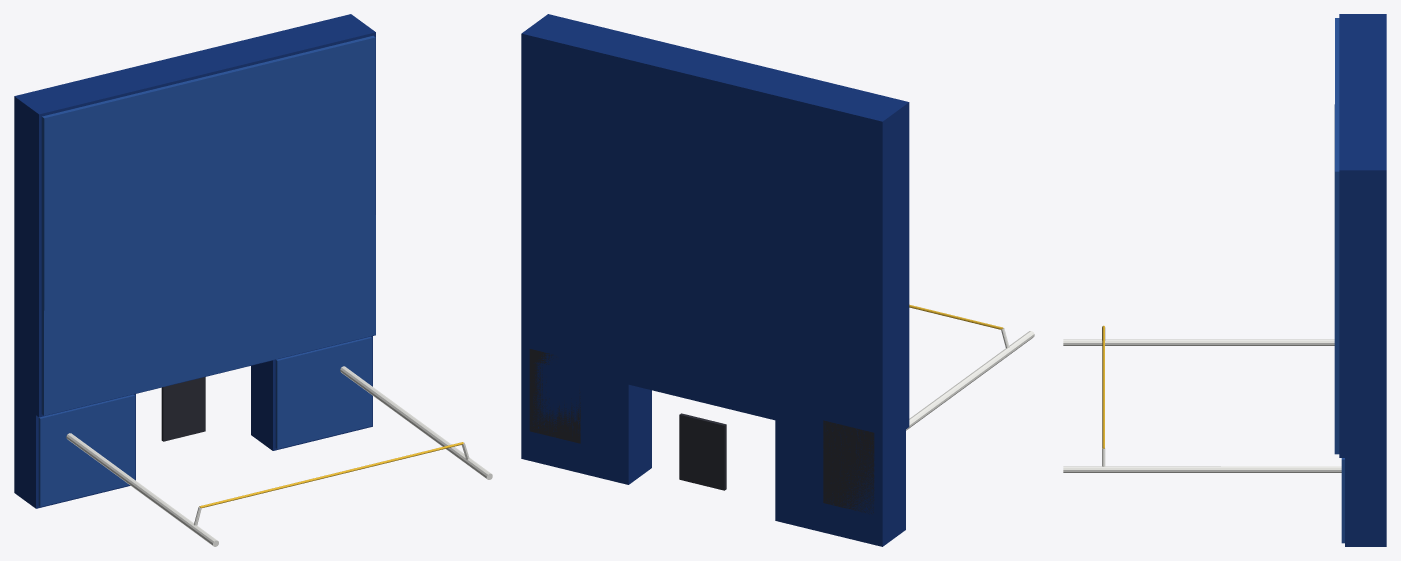
Rendered from perche.glb.
The picture shows the model from 3 angles, left to right: view 1: azimuth 30°, elevation 25°; view 2: azimuth 150°, elevation 25°; view 3: azimuth 270°, elevation 25°; orthographic projection. The views are drawn at different scales.
Parts seen in each view (by area): view 1: housse, tapis, pan_dessus.001, pan_dessus, pan, butoir, pan.001, chandelier, chandelier.001, barre; view 2: tapis, pan.001, pan, base, butoir, base.001, chandelier; view 3: tapis, pan.001, housse, chandelier.001, chandelier.
Part boxes in pixels (left/top/right/bottom): housse: left=41, top=35, right=375, bottom=415; tapis: left=14, top=14, right=375, bottom=417; pan_dessus.001: left=275, top=336, right=372, bottom=448; pan_dessus: left=38, top=394, right=135, bottom=506; pan: left=14, top=394, right=135, bottom=508; butoir: left=161, top=377, right=205, bottom=441; pan.001: left=251, top=336, right=372, bottom=450; chandelier: left=66, top=433, right=218, bottom=546; chandelier.001: left=340, top=366, right=492, bottom=479; barre: left=199, top=442, right=463, bottom=507; tapis: left=521, top=14, right=909, bottom=446; pan.001: left=521, top=358, right=651, bottom=484; pan: left=775, top=420, right=905, bottom=546; base: left=823, top=420, right=874, bottom=514; butoir: left=679, top=413, right=726, bottom=490; base.001: left=529, top=349, right=580, bottom=443; chandelier: left=906, top=331, right=1034, bottom=430; tapis: left=1339, top=14, right=1386, bottom=457; pan.001: left=1345, top=458, right=1386, bottom=546; housse: left=1334, top=18, right=1339, bottom=454; chandelier.001: left=1063, top=466, right=1341, bottom=472; chandelier: left=1063, top=339, right=1334, bottom=345.
Bounding box in the file's own units: 6.4 × 7.2 × 5.6.
